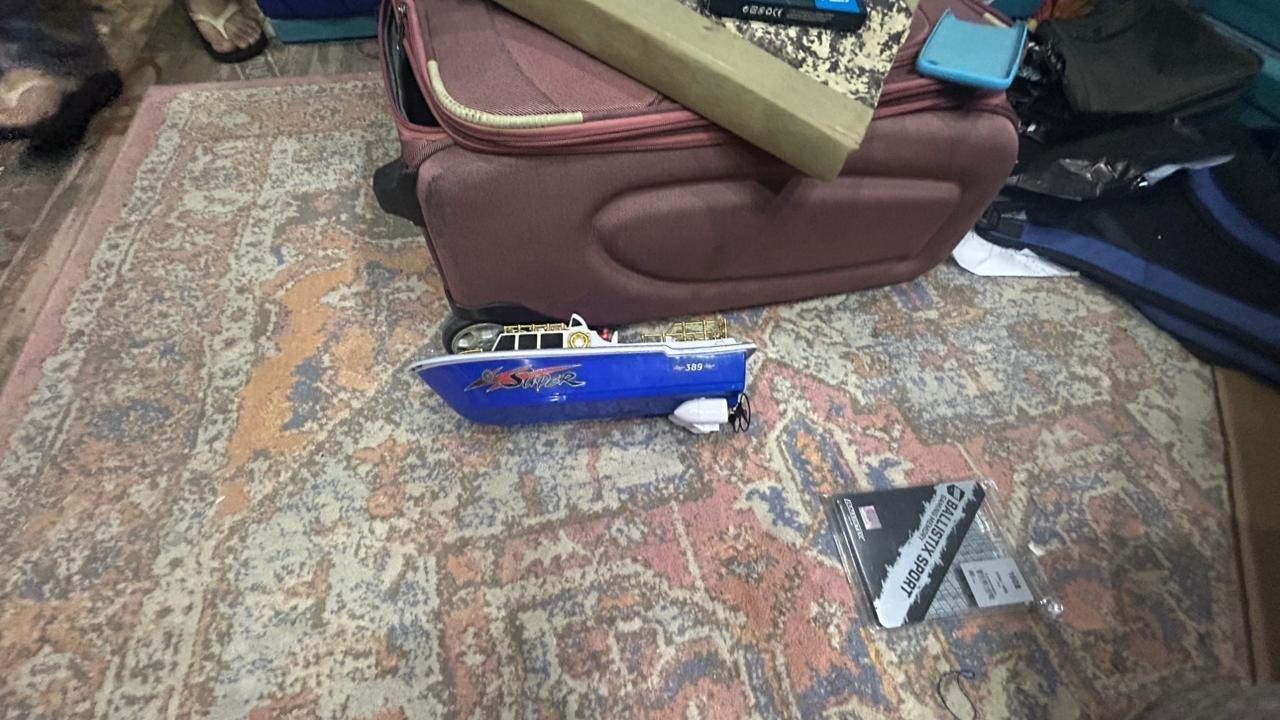Boat: (400, 311, 763, 440)
